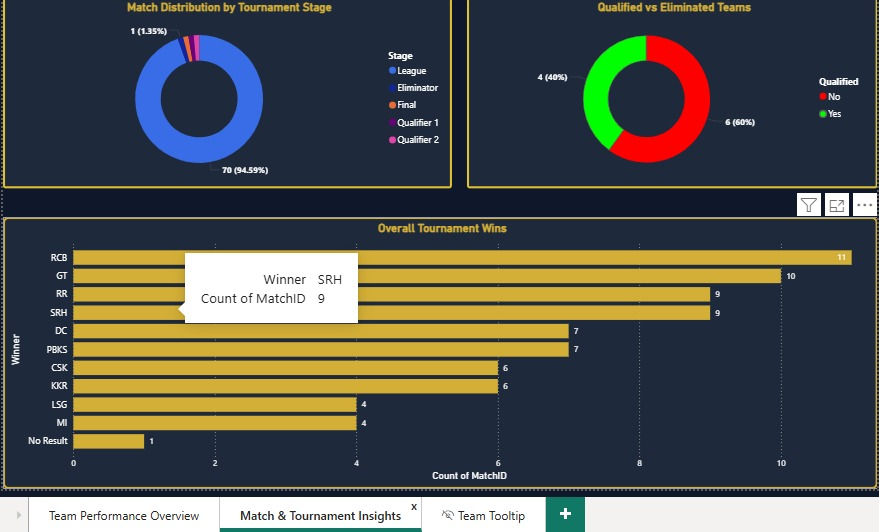

What the dashboard file says about the page in this screenshot:
{"tool":"powerbi","page":{"name":"Match & Tournament Insights","canvas":[1280,720],"ordinal":1},"visuals":[{"type":"donutChart","title":"Match Distribution by Tournament Stage","fields":{"Category":["ipl_matches.Stage"],"Y":["CountNonNull(ipl_matches.MatchID)"]},"box":[0,0,657.1,279.5],"z":0},{"type":"donutChart","title":"Qualified vs Eliminated Teams","fields":{"Y":["CountNonNull(ipl_2026_points_table2.Team)"],"Category":["ipl_2026_points_table2.Qualified"]},"box":[679,0,601.5,279.5],"z":1000},{"type":"clusteredBarChart","title":"Overall Tournament Wins","fields":{"Category":["ipl_matches.Winner"],"Y":["CountNonNull(ipl_matches.MatchID)"]},"box":[0,322,1280.5,398],"z":3000}]}

Visuals, with their boxes in screenshot pixels (x1, y1, x2, y2):
"Match Distribution by Tournament Stage" donutChart: region(0, 0, 461, 185)
"Qualified vs Eliminated Teams" donutChart: region(477, 0, 878, 185)
"Overall Tournament Wins" clusteredBarChart: region(0, 215, 878, 494)
